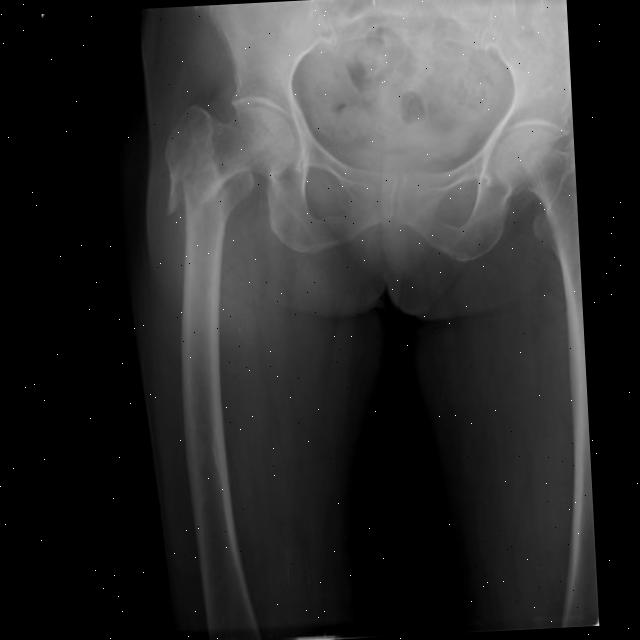Fracture: (160, 146, 240, 220)
